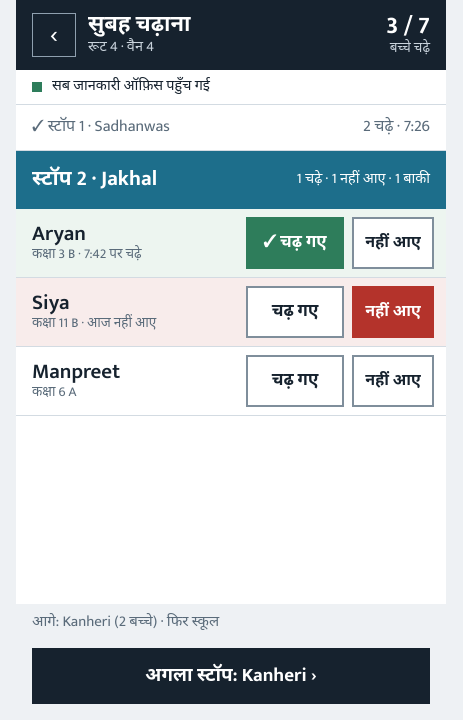
Test: Morning pickup (/trip/pickup) › the same button again takes the answer back; the unsent tap just disappears
This screenshot has width=463, height=720.
Click the button "चढ़ गए" next to "Manpreet" at {"x": 295, "y": 380}, box 246,354 -> 344,406
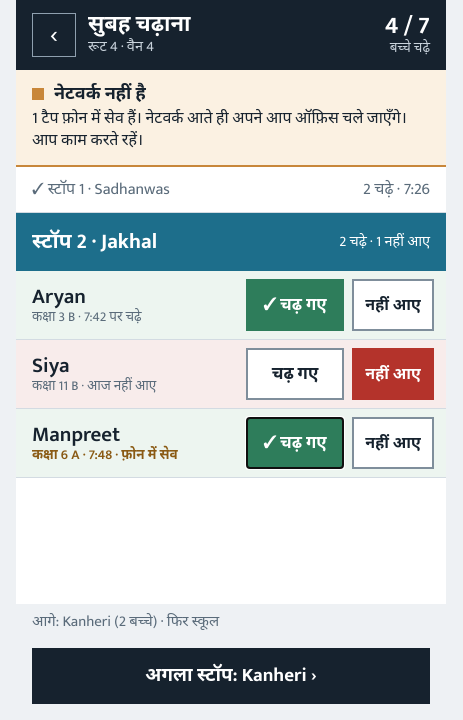
Expected: the button "✓ चढ़ गए" next to "कक्षा 6 A · 7:48 · फ़ोन में सेव" is shown
Click the button "✓ चढ़ गए" next to "कक्षा 6 A · 7:48 · फ़ोन में सेव" at {"x": 295, "y": 443}, box 246,417 -> 344,469
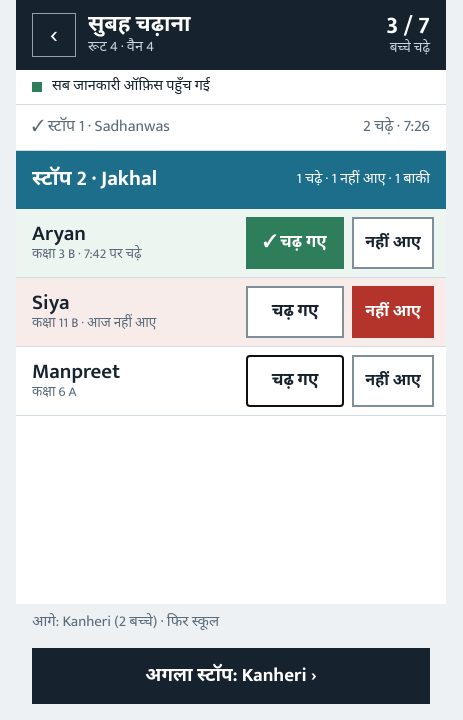
Expected: the text named "बच्चे चढ़े" reads "3 / 7", 386,6 -> 430,46
Expected: the text "नेटवर्क नहीं है" is gone
Expected: the text "सब जानकारी ऑफ़िस पहुँच गई" is shown, 16,70 -> 446,105
